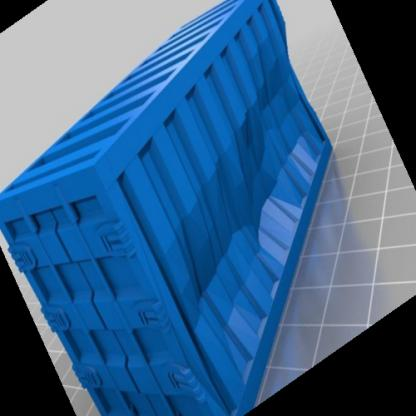Damage: (197, 82, 295, 298)
